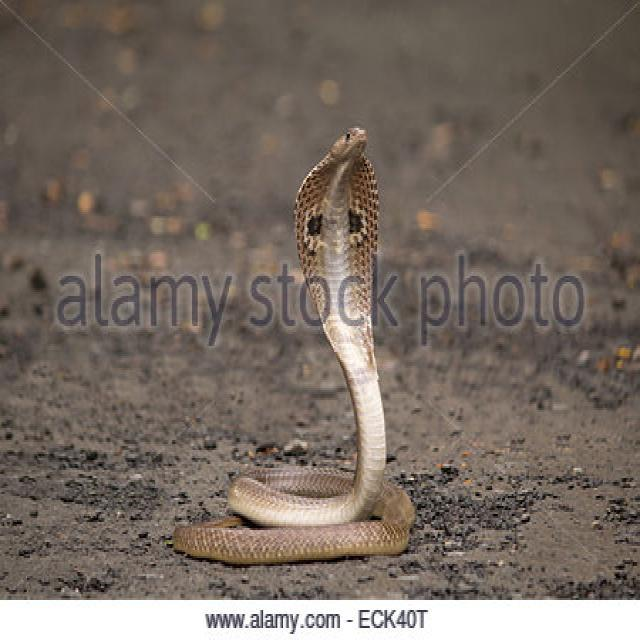Snake: (171, 121, 417, 570)
